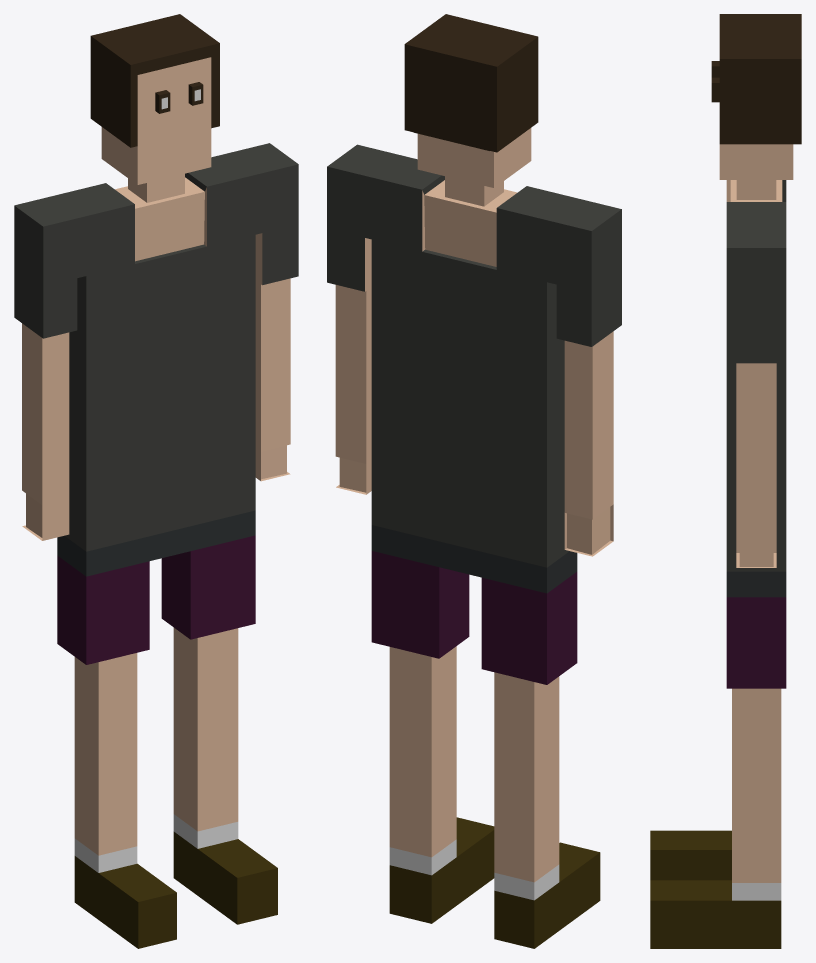
Rendered from Pokemon_Pritish.glb.
3 views of the same model, side by side, from view 1: azimuth 30°, elevation 25°; view 2: azimuth 150°, elevation 25°; view 3: azimuth 270°, elevation 25° (orthographic). The views are drawn at different scales.
Visible parts, largest first — view 1: Pokemon_Pritish; view 2: Pokemon_Pritish; view 3: Pokemon_Pritish.
Part boxes in pixels (x1=…): Pokemon_Pritish: x1=14, y1=14, x2=298, y2=948; Pokemon_Pritish: x1=327, y1=14, x2=621, y2=948; Pokemon_Pritish: x1=650, y1=14, x2=801, y2=948.
Size of the model in its own units: 3.74 by 11.92 by 1.86.
